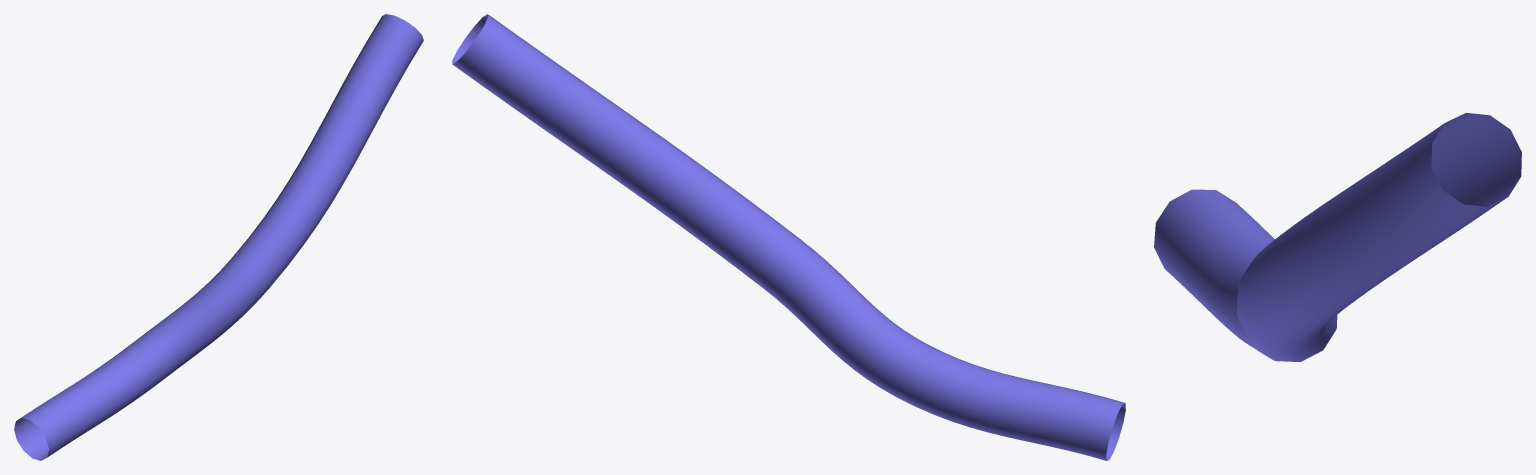
File: Median_cubital_vein.r_BezierCurve.297.glb
The picture shows the model from 3 angles, left to right: view 1: azimuth 30°, elevation 25°; view 2: azimuth 150°, elevation 25°; view 3: azimuth 270°, elevation 25°; orthographic projection. The views are drawn at different scales.
Parts seen in each view (by area): view 1: Median_cubital_vein.r_BezierCurve.297; view 2: Median_cubital_vein.r_BezierCurve.297; view 3: Median_cubital_vein.r_BezierCurve.297.
Boxes of the visible parts, bbox=[...] form: Median_cubital_vein.r_BezierCurve.297: bbox=[14, 14, 423, 460]; Median_cubital_vein.r_BezierCurve.297: bbox=[452, 14, 1125, 460]; Median_cubital_vein.r_BezierCurve.297: bbox=[1154, 113, 1521, 362].
Bounding box in the file's own units: 0.0403 × 0.0244 × 0.0139.
